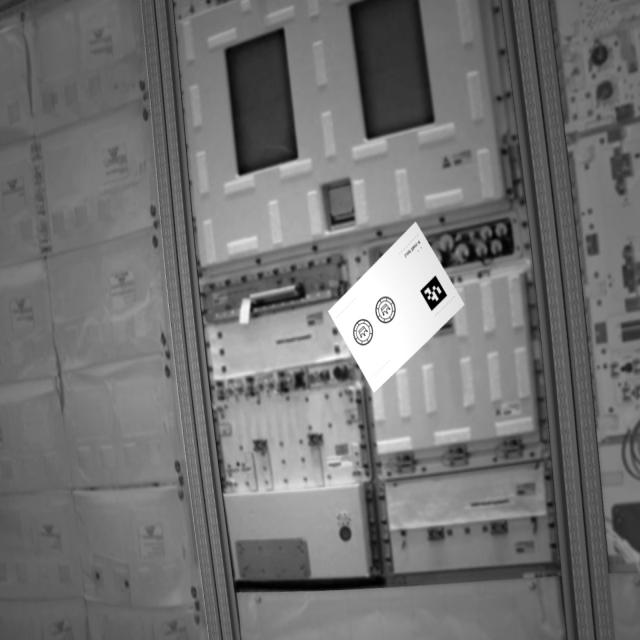coin: (352, 314, 375, 354), (374, 294, 400, 329)
